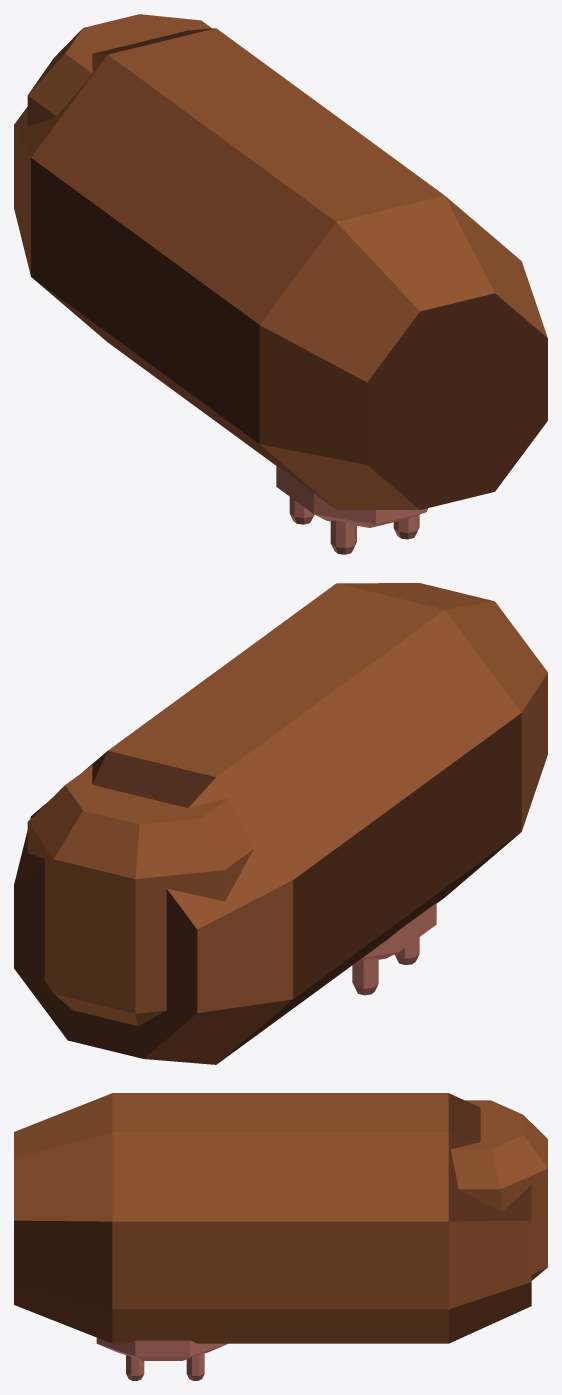
The model's file is cow-brown-body.obj.
3 renders of one model, top to bottom at view 1: azimuth 30°, elevation 25°; view 2: azimuth 150°, elevation 25°; view 3: azimuth 270°, elevation 25°, orthographic. The views are drawn at different scales.
Parts seen in each view (by area): view 1: cow-brown-body; view 2: cow-brown-body; view 3: cow-brown-body.
Part boxes in pixels (x1,y1,x2,y2): cow-brown-body: (14,14,547,554); cow-brown-body: (14,583,547,1064); cow-brown-body: (14,1093,547,1380).
Size of the model in its own units: 0.8082 by 1.02 by 1.94.
